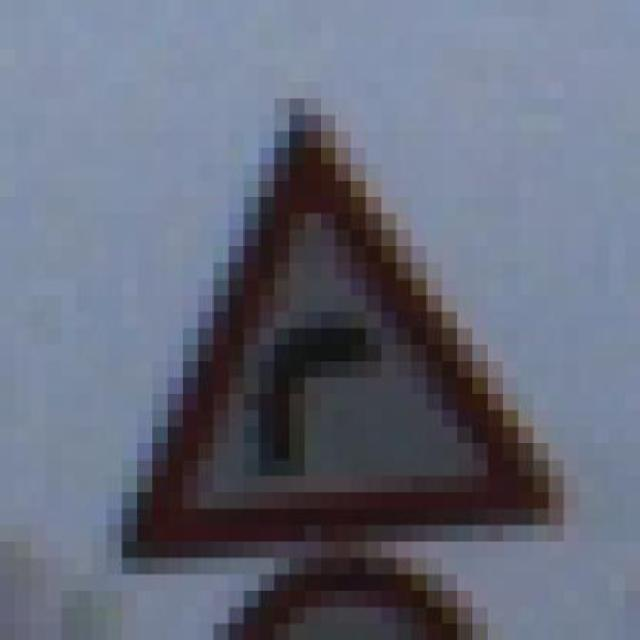Dangerous Rright Curve Ahead: (58, 78, 577, 554)
